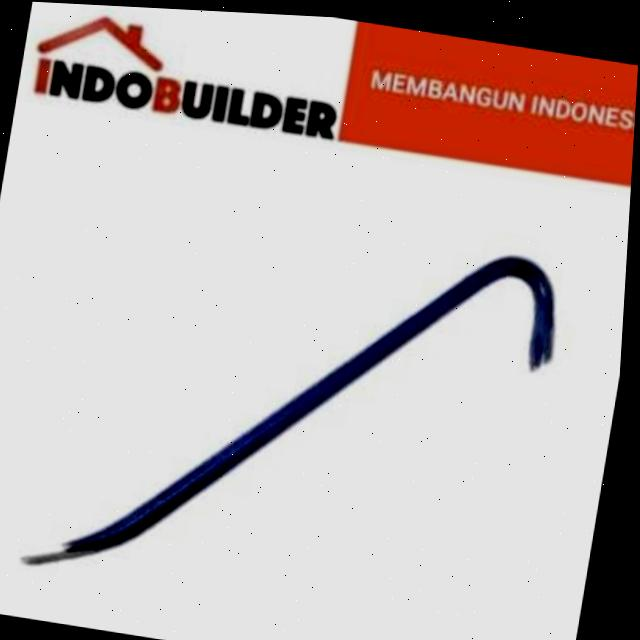crow bar: (21, 234, 564, 573)
